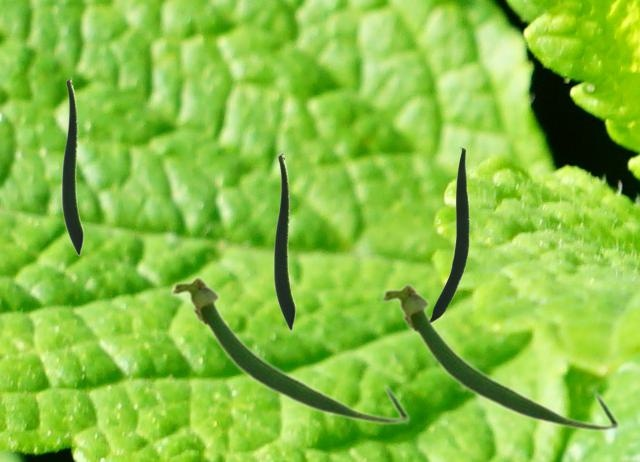french_bean: (169, 274, 410, 425), (379, 281, 620, 432), (431, 147, 468, 321), (61, 77, 83, 255), (273, 152, 295, 330)
